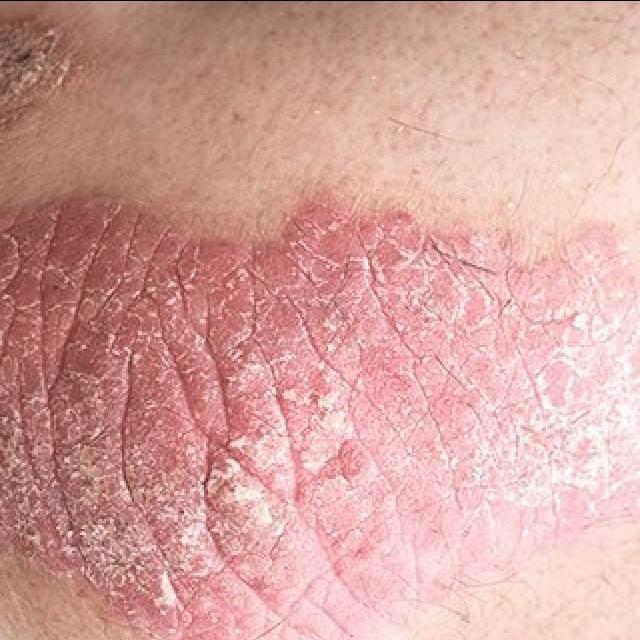Psoriasis: (0, 198, 640, 640), (0, 0, 94, 156)
